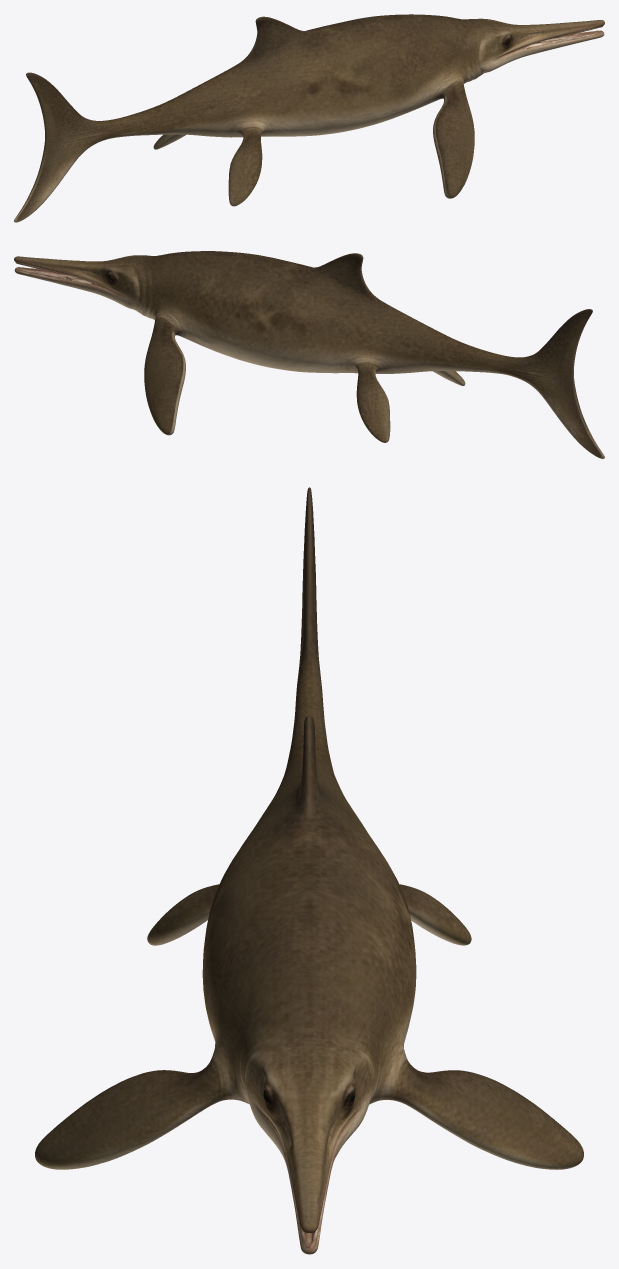
3 views of the same model, one above another, from view 1: azimuth 30°, elevation 25°; view 2: azimuth 150°, elevation 25°; view 3: azimuth 270°, elevation 25° (orthographic). The views are drawn at different scales.
Parts seen in each view (by area): view 1: Authored orientation; view 2: Authored orientation; view 3: Authored orientation.
Part boxes in pixels (box(x1,y1,x2,y2)): Authored orientation: box(14, 14, 604, 222); Authored orientation: box(14, 251, 604, 458); Authored orientation: box(35, 487, 583, 1254).
Bounding box in the file's own units: 2.68 × 0.7116 × 1.08.
Materials: 1 (1 with a texture image).
